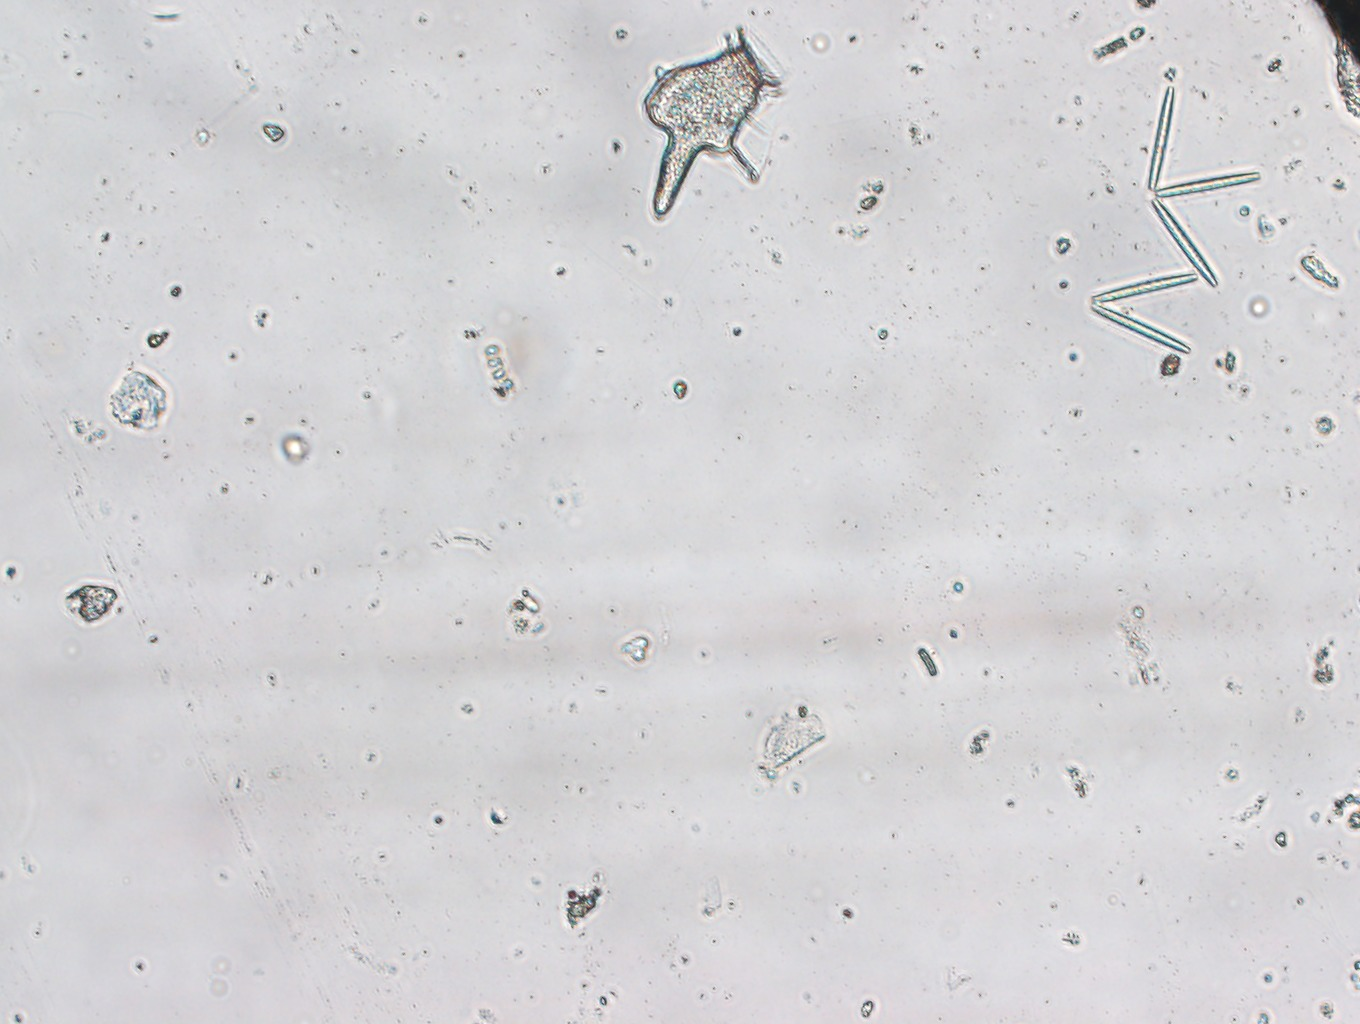dinophysis caudata: (624, 23, 788, 215)
thalassionema frauenfeldii: (1089, 82, 1264, 359)
